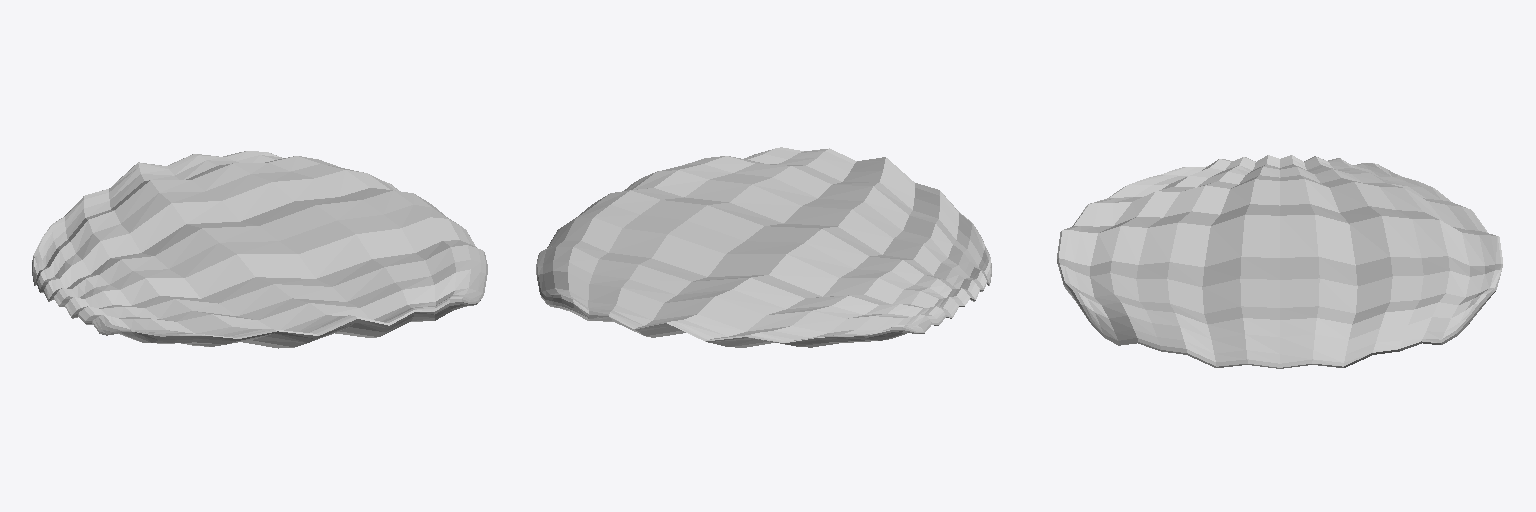
Rendered from Sallad.obj.
3 views of the same model, side by side, from view 1: azimuth 30°, elevation 25°; view 2: azimuth 150°, elevation 25°; view 3: azimuth 270°, elevation 25° (orthographic).
Parts seen in each view (by area): view 1: Sallad_Cube.003; view 2: Sallad_Cube.003; view 3: Sallad_Cube.003.
Part boxes in pixels (x1,y1,x2,y2): Sallad_Cube.003: (32, 151, 487, 348); Sallad_Cube.003: (536, 147, 991, 347); Sallad_Cube.003: (1057, 155, 1502, 368).
Size of the model in its own units: 2.35 by 0.2719 by 2.31.